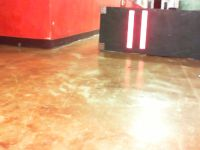switch: (126, 10, 136, 48), (139, 10, 148, 49)
